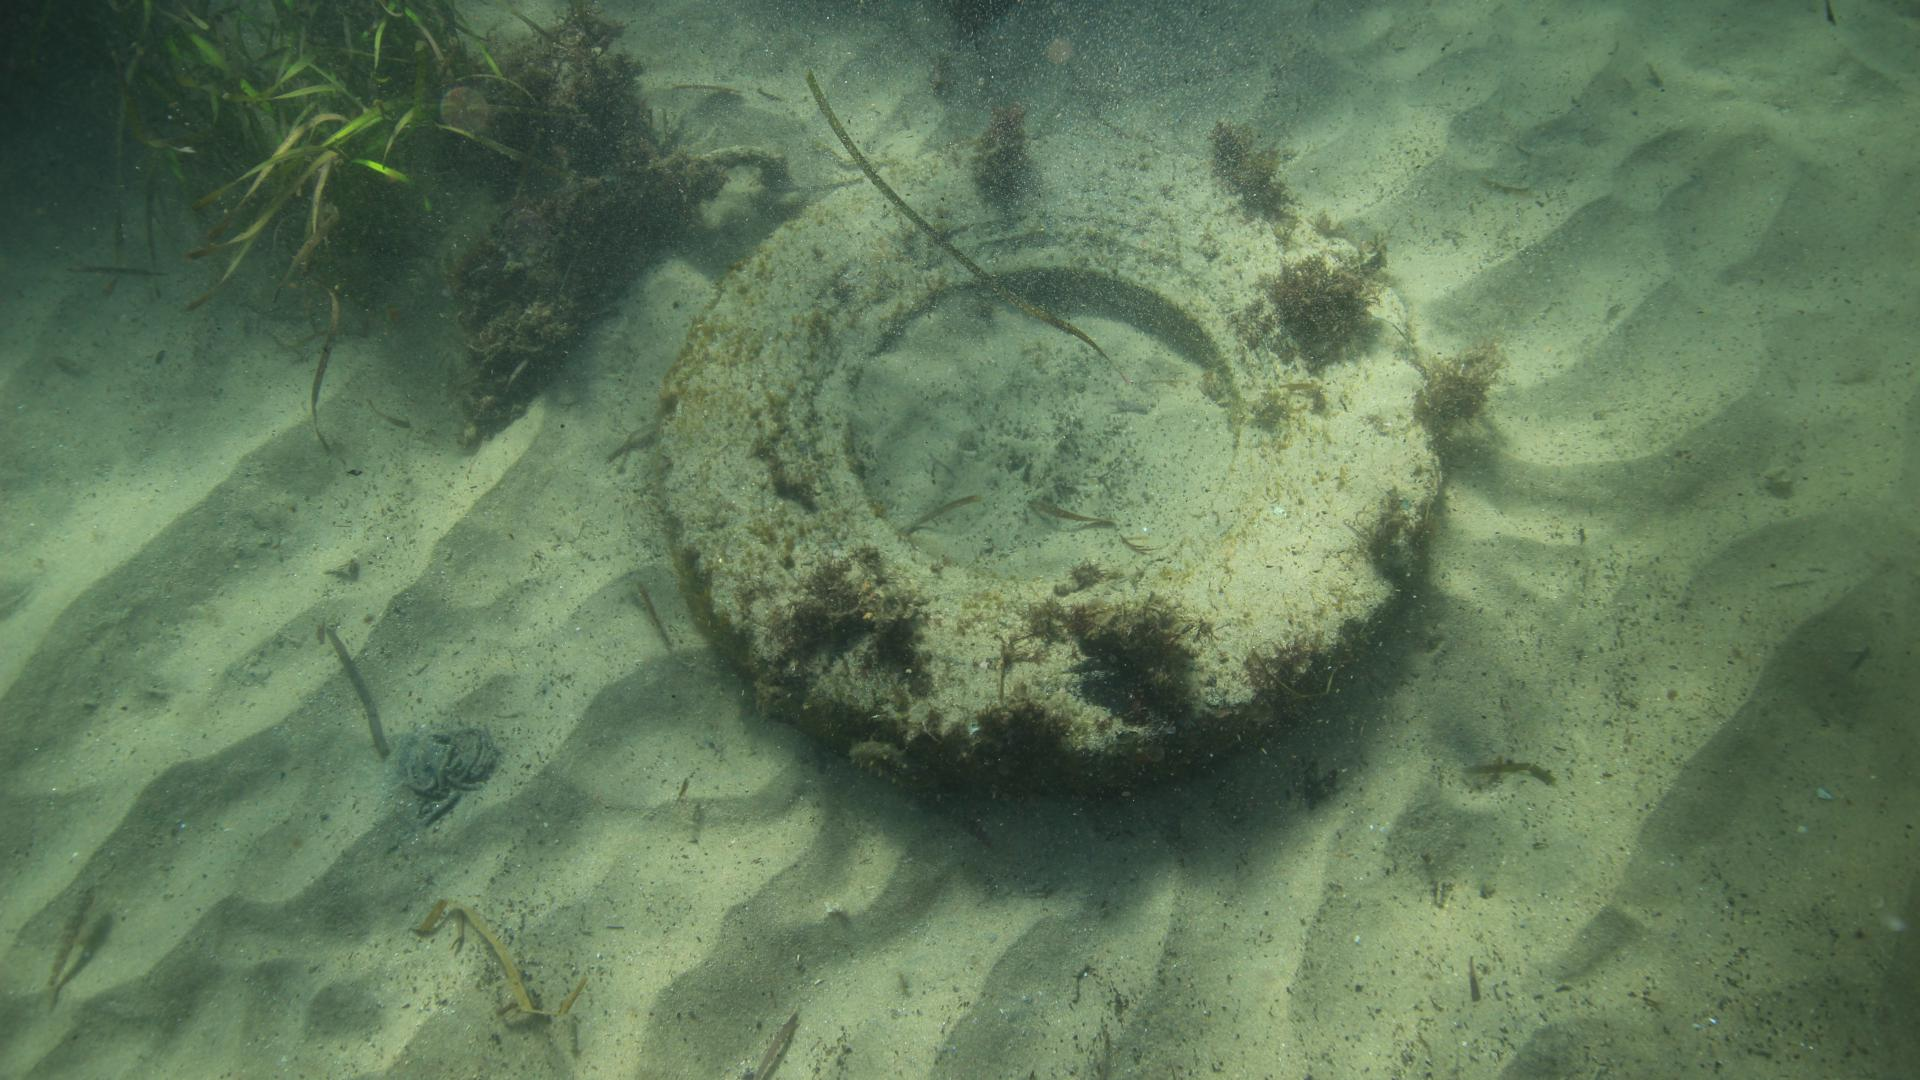tire: (651, 129, 1441, 796)
